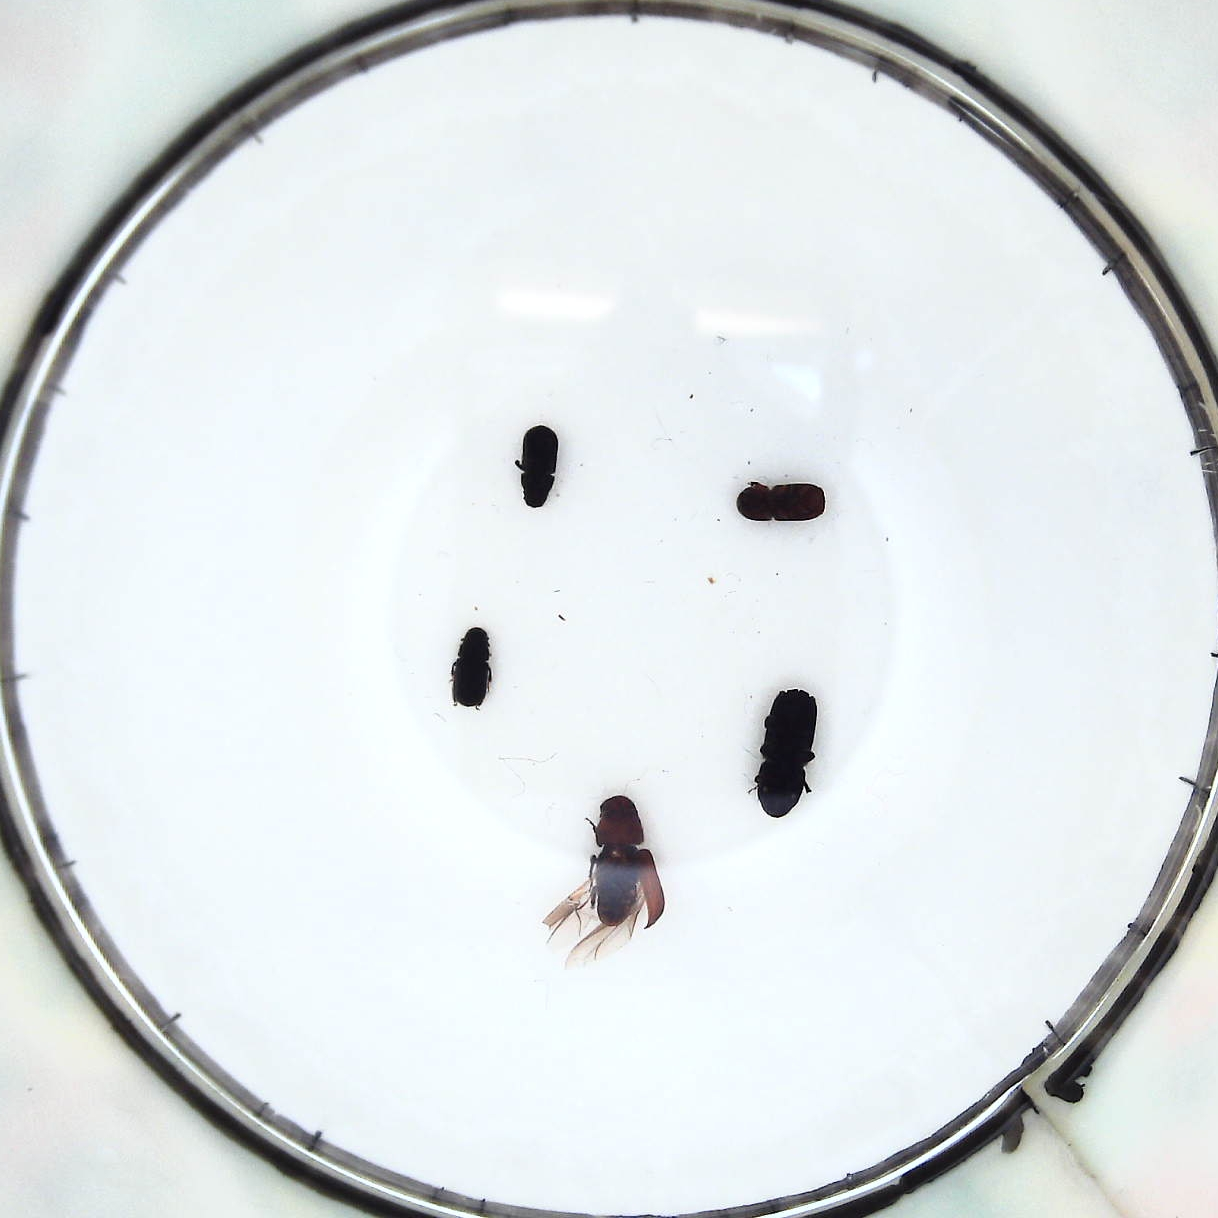Boerner: (756, 681, 822, 821)
Leconte: (552, 799, 661, 931)
Linnaeus: (735, 477, 825, 528)
armandi: (513, 419, 561, 509), (452, 621, 497, 704)
